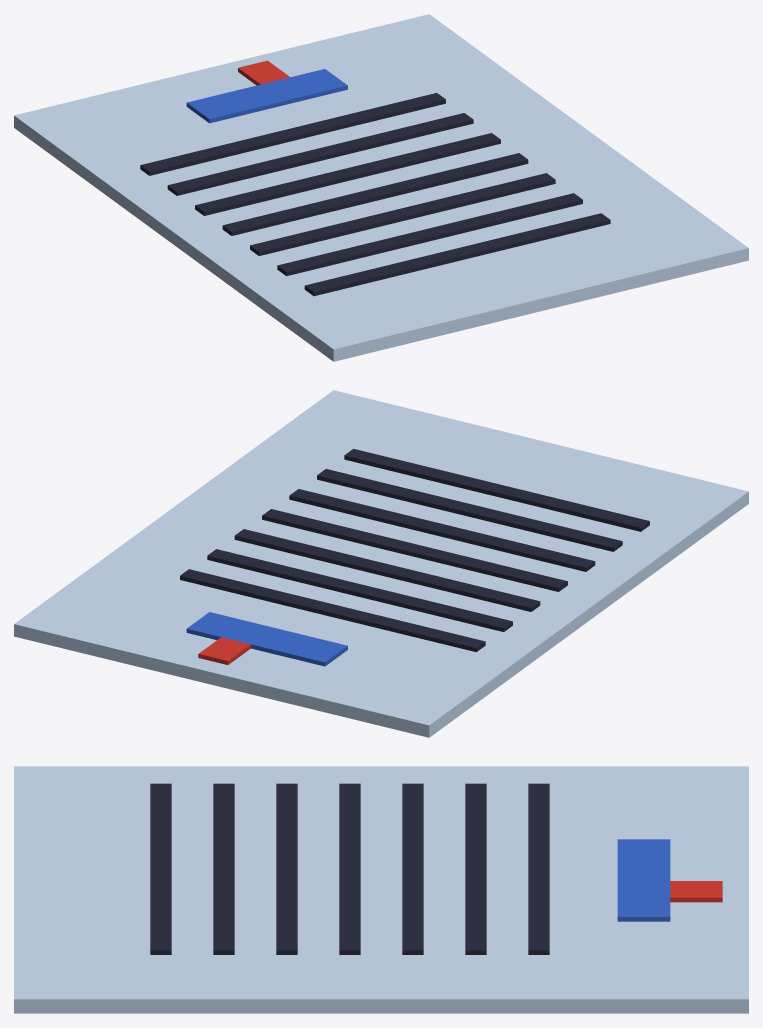
Rendered from karaoke_ship_invoice.glb.
The picture shows the model from 3 angles, top to bottom: view 1: azimuth 30°, elevation 25°; view 2: azimuth 150°, elevation 25°; view 3: azimuth 270°, elevation 25°; orthographic projection. The views are drawn at different scales.
Parts seen in each view (by area): view 1: paper_invoice_blue, lines_invoice_ink (×7), hull_invoice_ship, funnel_invoice_red; view 2: paper_invoice_blue, lines_invoice_ink (×7), hull_invoice_ship, funnel_invoice_red; view 3: paper_invoice_blue, lines_invoice_ink (×7), hull_invoice_ship, funnel_invoice_red.
Part boxes in pixels (<box>): paper_invoice_blue: <box>14,14,748,361</box>; lines_invoice_ink (×7): <box>140,93,610,296</box>; hull_invoice_ship: <box>186,69,347,123</box>; funnel_invoice_red: <box>238,60,289,85</box>; paper_invoice_blue: <box>14,390,748,737</box>; lines_invoice_ink (×7): <box>180,449,649,652</box>; hull_invoice_ship: <box>186,612,347,666</box>; funnel_invoice_red: <box>198,637,250,664</box>; paper_invoice_blue: <box>14,766,748,1013</box>; lines_invoice_ink (×7): <box>150,783,549,954</box>; hull_invoice_ship: <box>617,839,670,921</box>; funnel_invoice_red: <box>670,881,722,902</box>.
Bounding box in the file's own units: 0.21 × 0.008 × 0.28.
